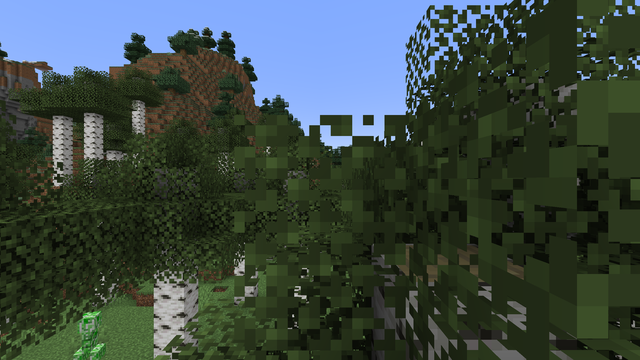creepers: (74, 309, 104, 359)
